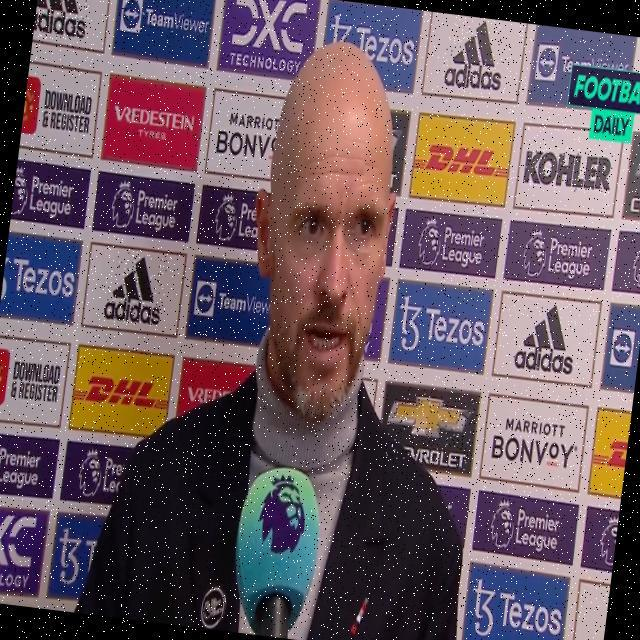Adidas: (511, 299, 581, 378), (441, 14, 508, 94), (102, 249, 169, 328), (32, 0, 93, 41)
Chevrolet: (383, 389, 475, 470)
Kohler: (521, 145, 613, 196)
TeamViewer: (119, 0, 212, 41)
